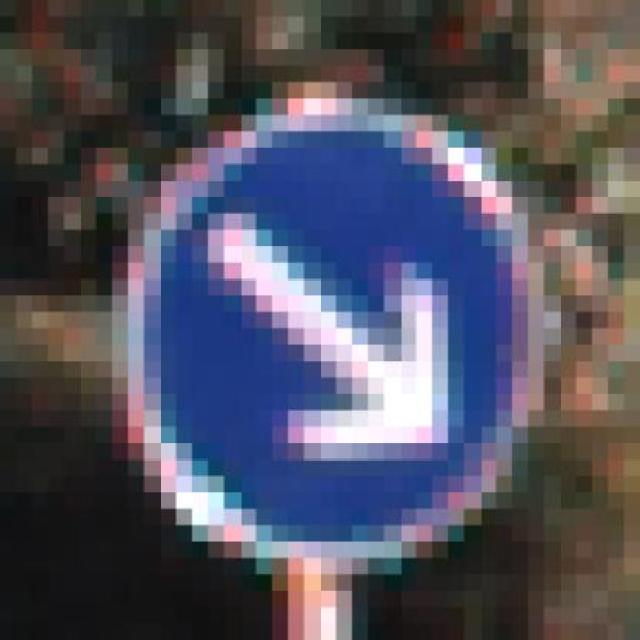Keep-Right: (80, 66, 608, 592)
